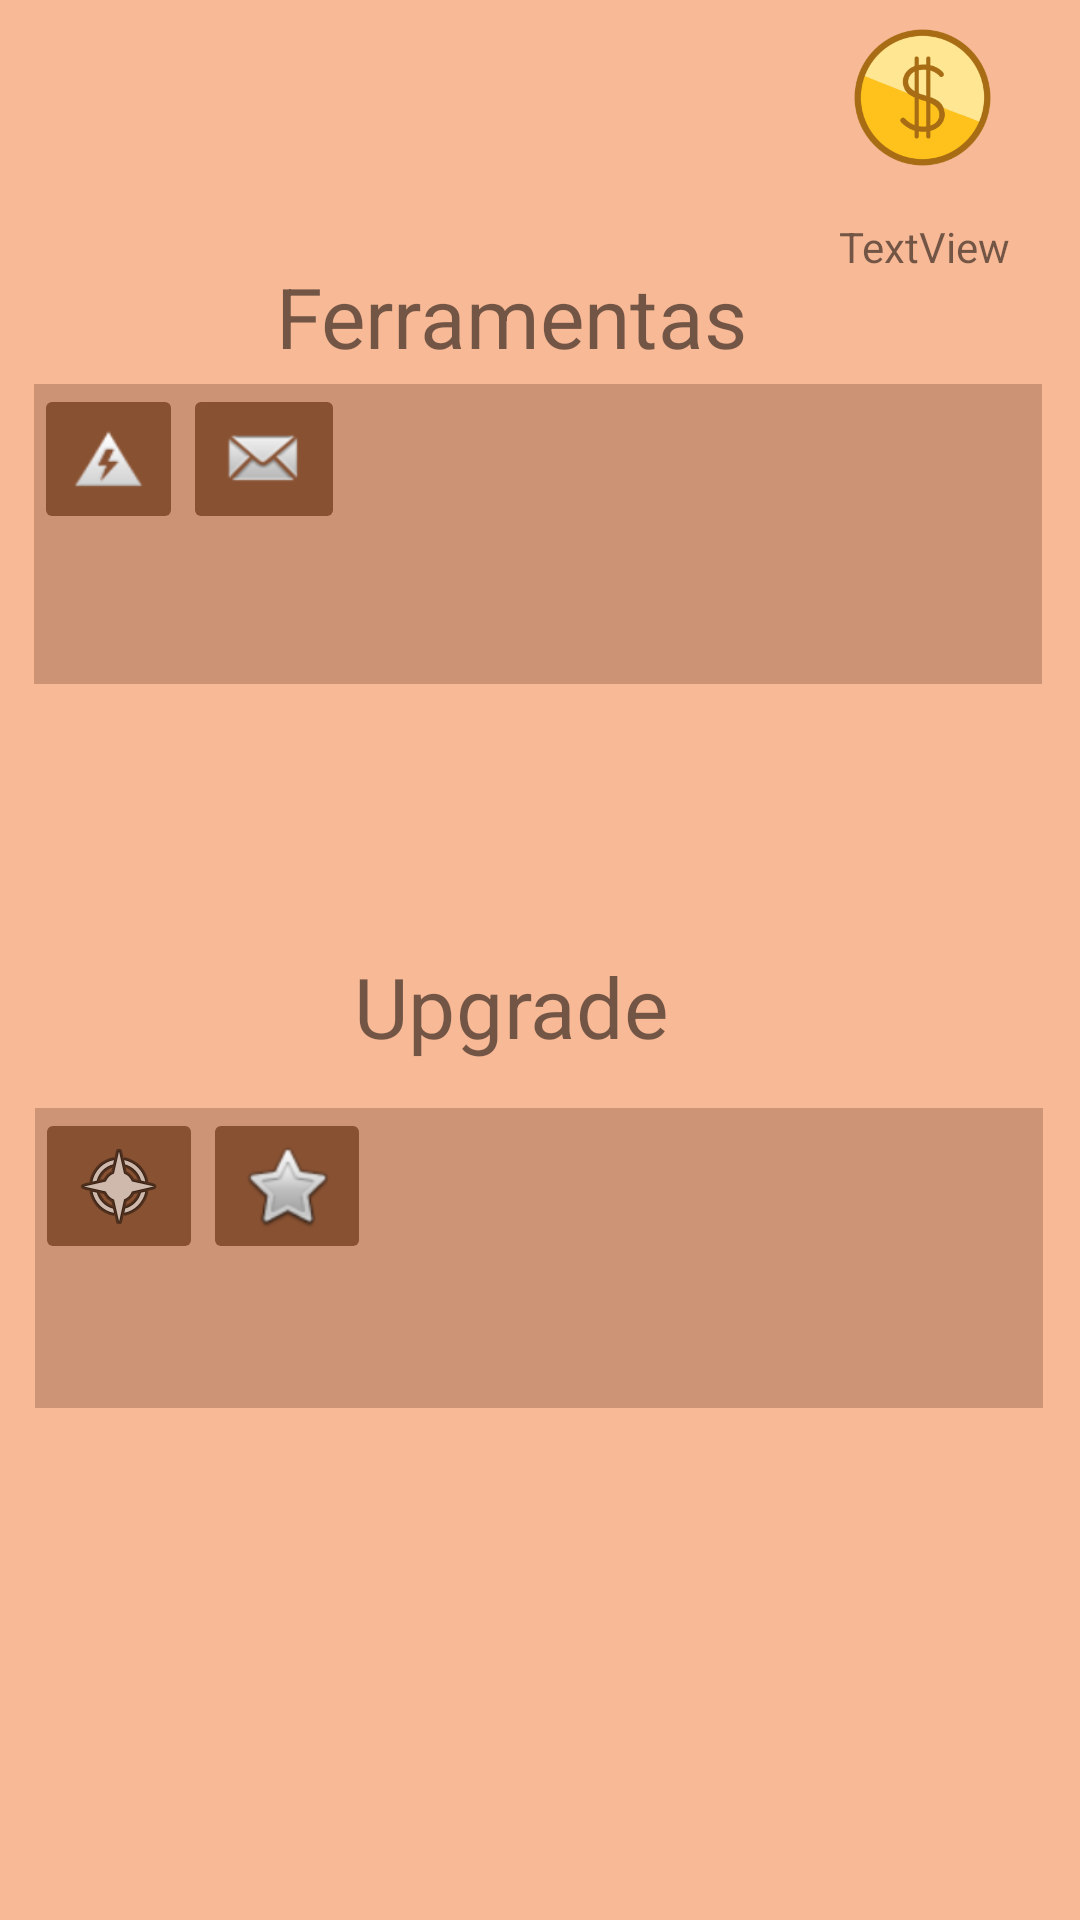

Icon bounding boxes for this 1080*1920 phone screenshot, format (x1, y1, x2, y2):
compass: (47, 1126, 191, 1246)
star: (215, 1126, 359, 1246)
sym action email: (195, 402, 333, 516)
